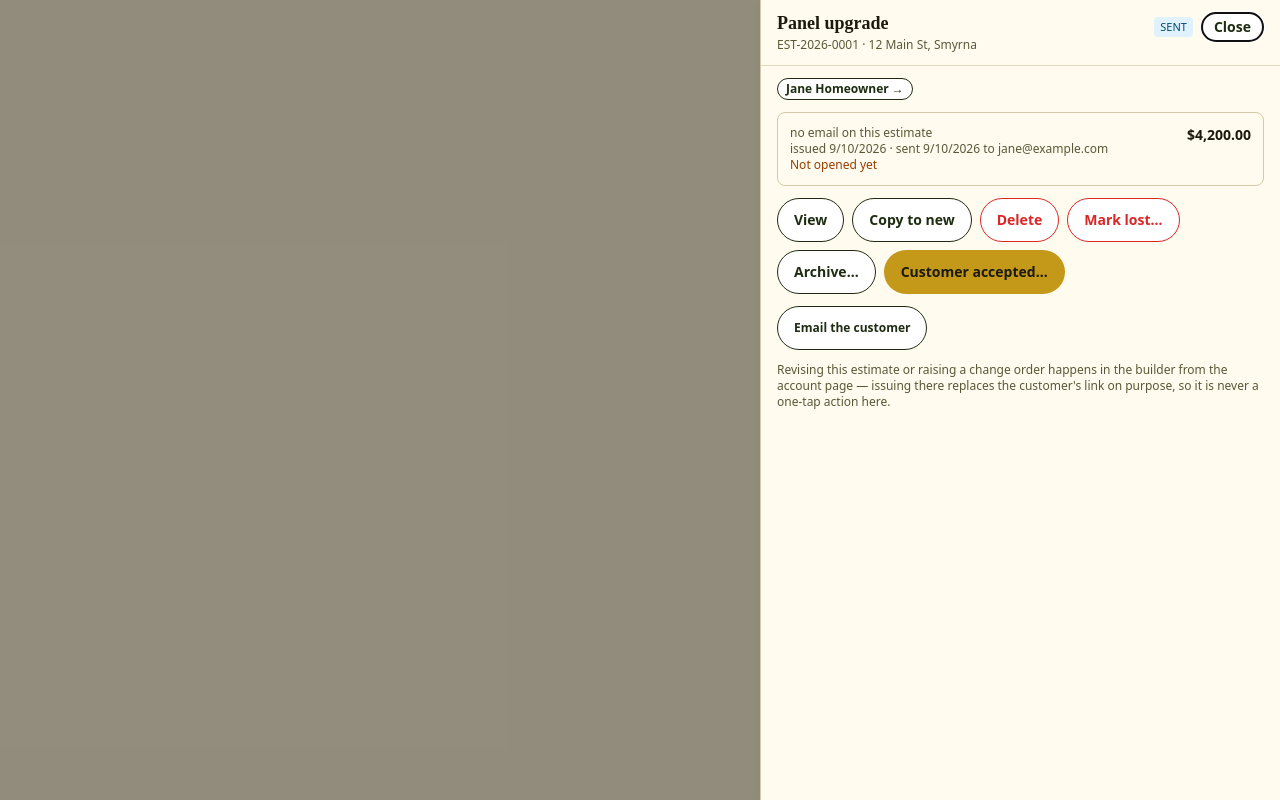
Test: EstimateDrawer — the ONE email control (Estimate · Financing link · Message) › with no email on file, the panel says so and a typed or chosen address is the way out
The width and height of the screenshot is (1280, 800).
Click the button "Email the customer" at (852, 328), box [777,306,928,350]
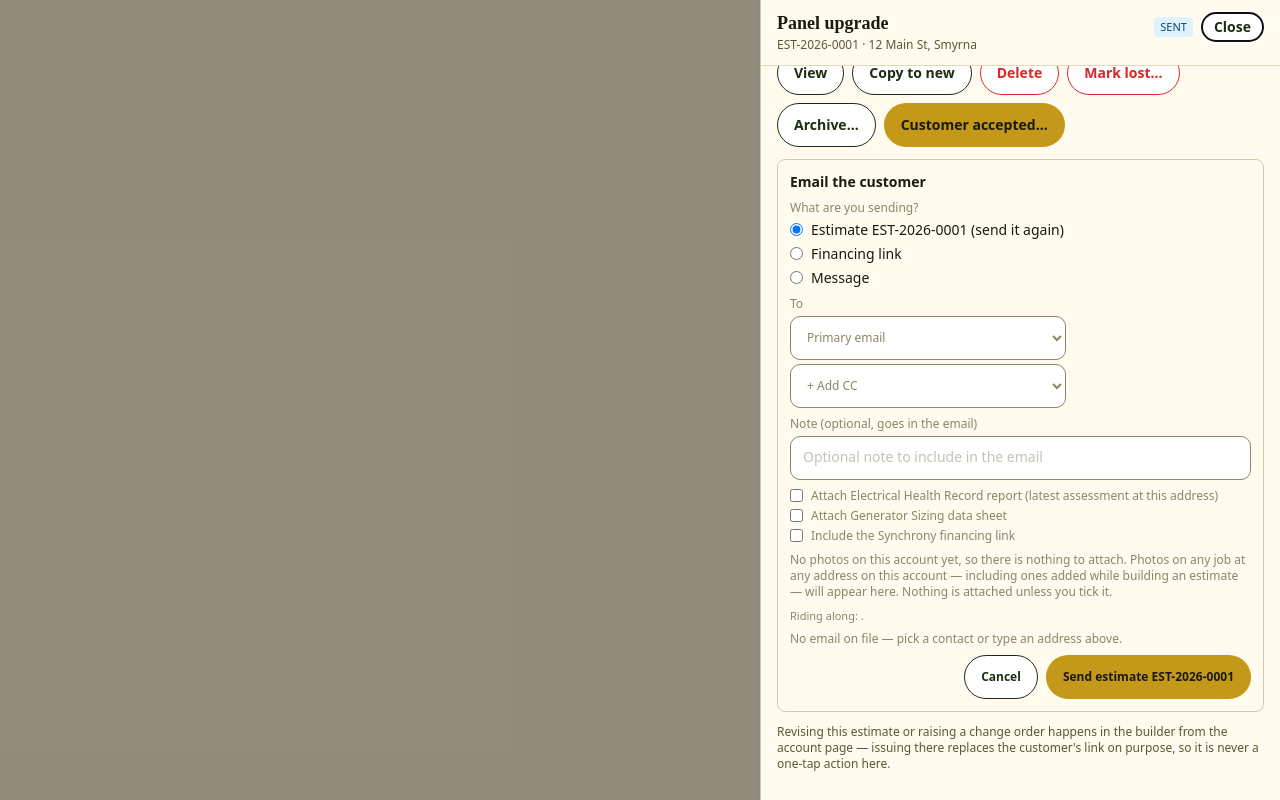
Result: the text "No email on file — pick a contact or type an address above." is shown at [790,630,1122,647]
Result: the button "Send estimate EST-2026-0001" is disabled at [1046,655,1251,699]
